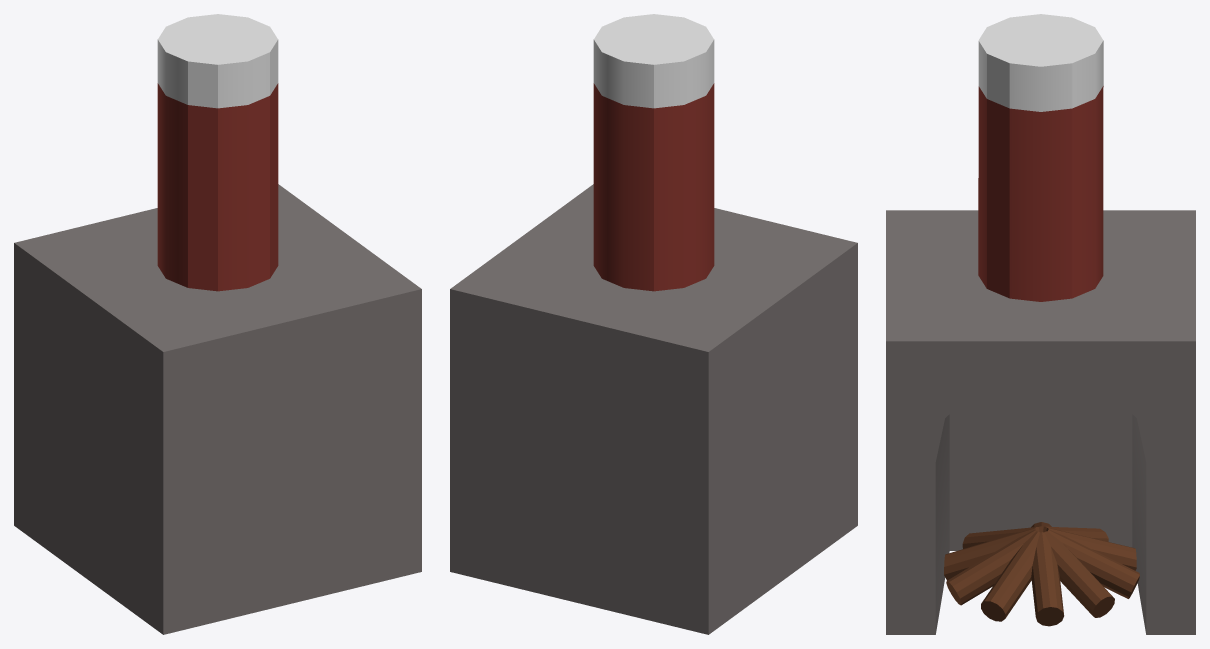
The model's file is Unity_furance.fbx.
The picture shows the model from 3 angles, left to right: view 1: azimuth 30°, elevation 25°; view 2: azimuth 150°, elevation 25°; view 3: azimuth 270°, elevation 25°; orthographic projection. The views are drawn at different scales.
Visible parts, largest first — view 1: Cube.001, Cylinder; view 2: Cube.001, Cylinder; view 3: Cube.001, Cylinder, Cylinder.001.
Part boxes in pixels (x1,y1,x2,y2): Cube.001: (14, 184, 421, 634); Cylinder: (157, 14, 278, 291); Cube.001: (450, 184, 857, 634); Cylinder: (593, 14, 714, 291); Cube.001: (886, 210, 1195, 634); Cylinder: (978, 14, 1103, 301); Cylinder.001: (944, 522, 1139, 626).
Bounding box in the file's own units: 200 × 378 × 200.
